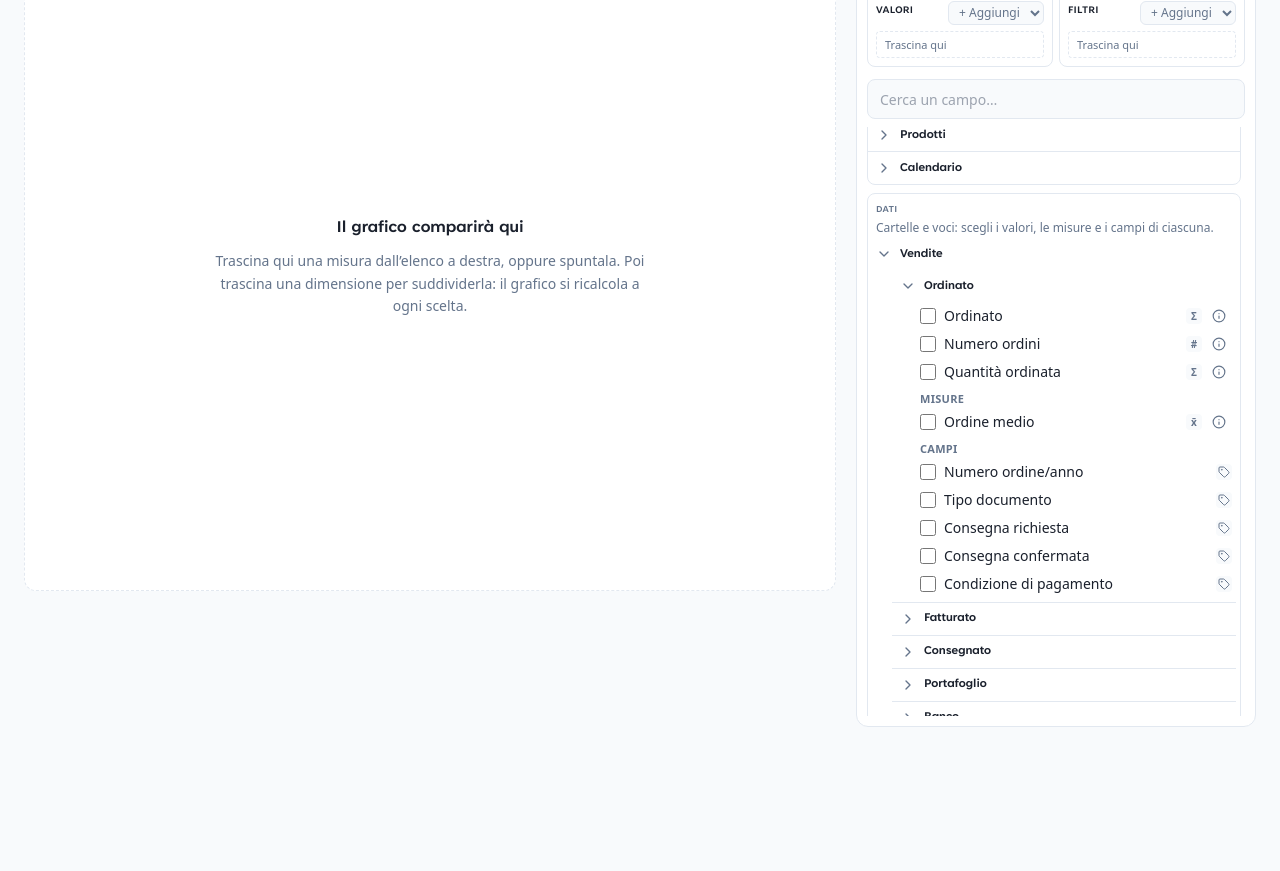
un valore e il suo periodo › il progressivo e' spento su una media, col suo perche'
(page scrolled)
La media sta dentro la voce «Ordinato», sotto «Misure».
Step 1. Click the checkbox labelled "Ordine medio" → [928, 422], box [920,414,936,430]
Wait 400 ms
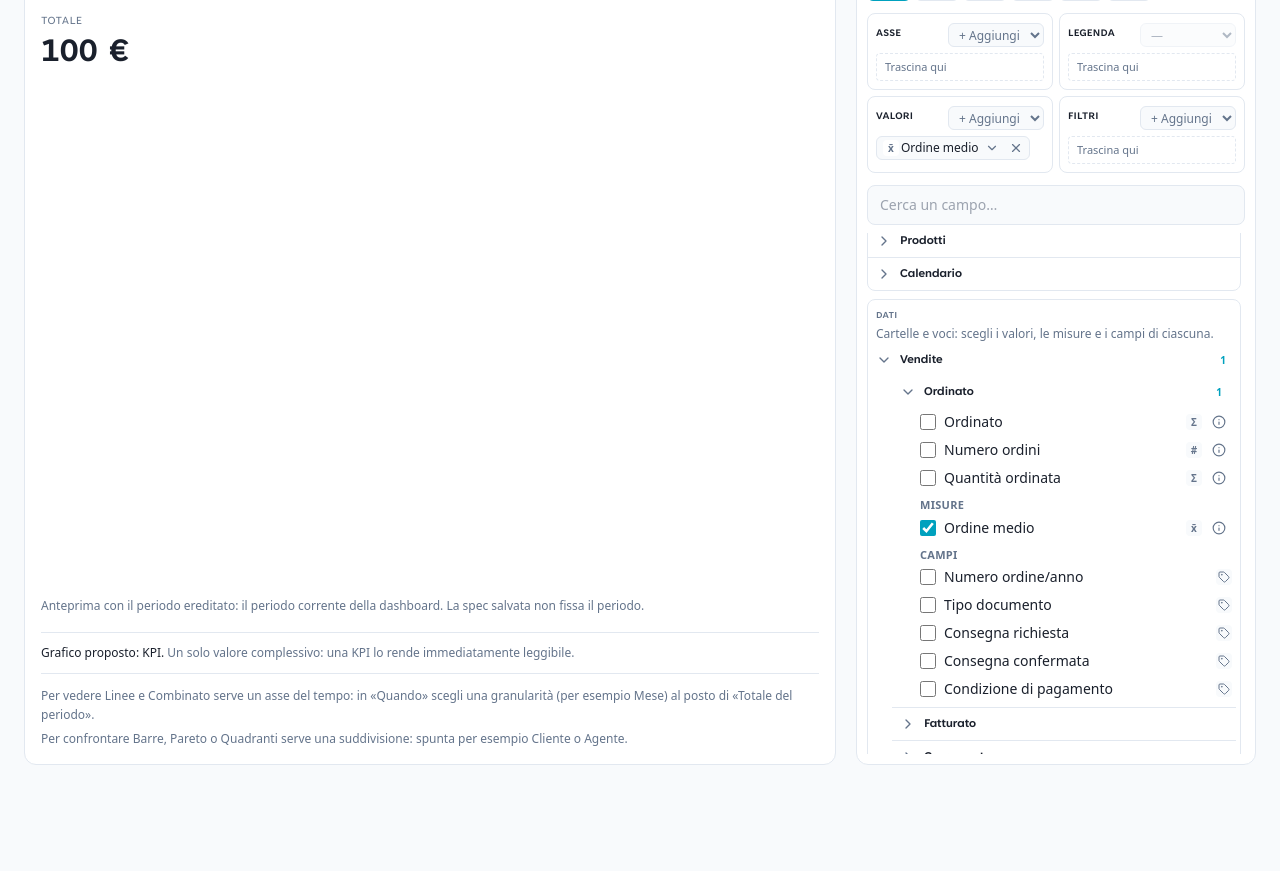
Step 2. Click the button named "Calcolo e periodo di Ordine medio" → [992, 148], box [981,137,1003,159]
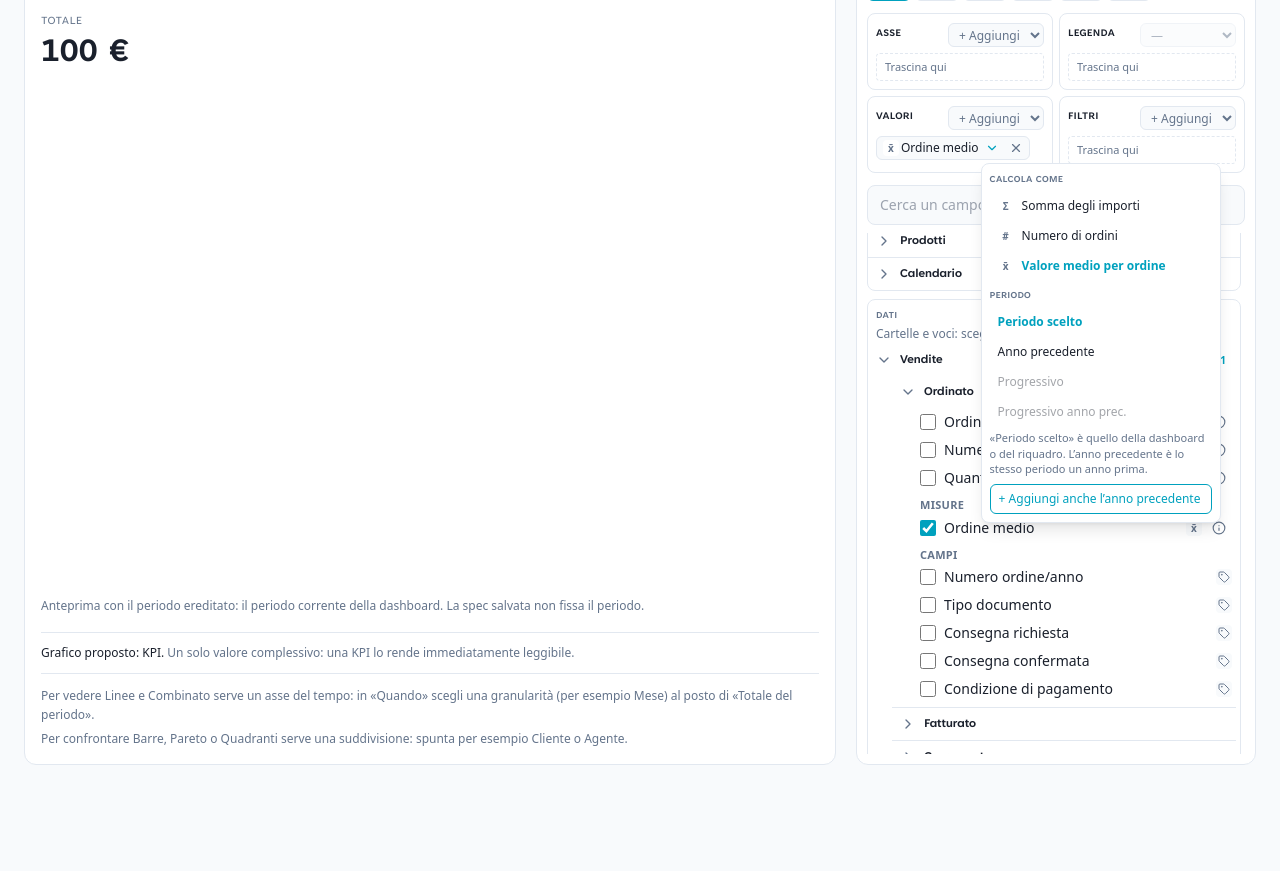
Check: the button "Progressivo" is disabled, box [990,368,1212,396]
Check: the button "Anno precedente" is enabled, box [990,338,1212,366]
